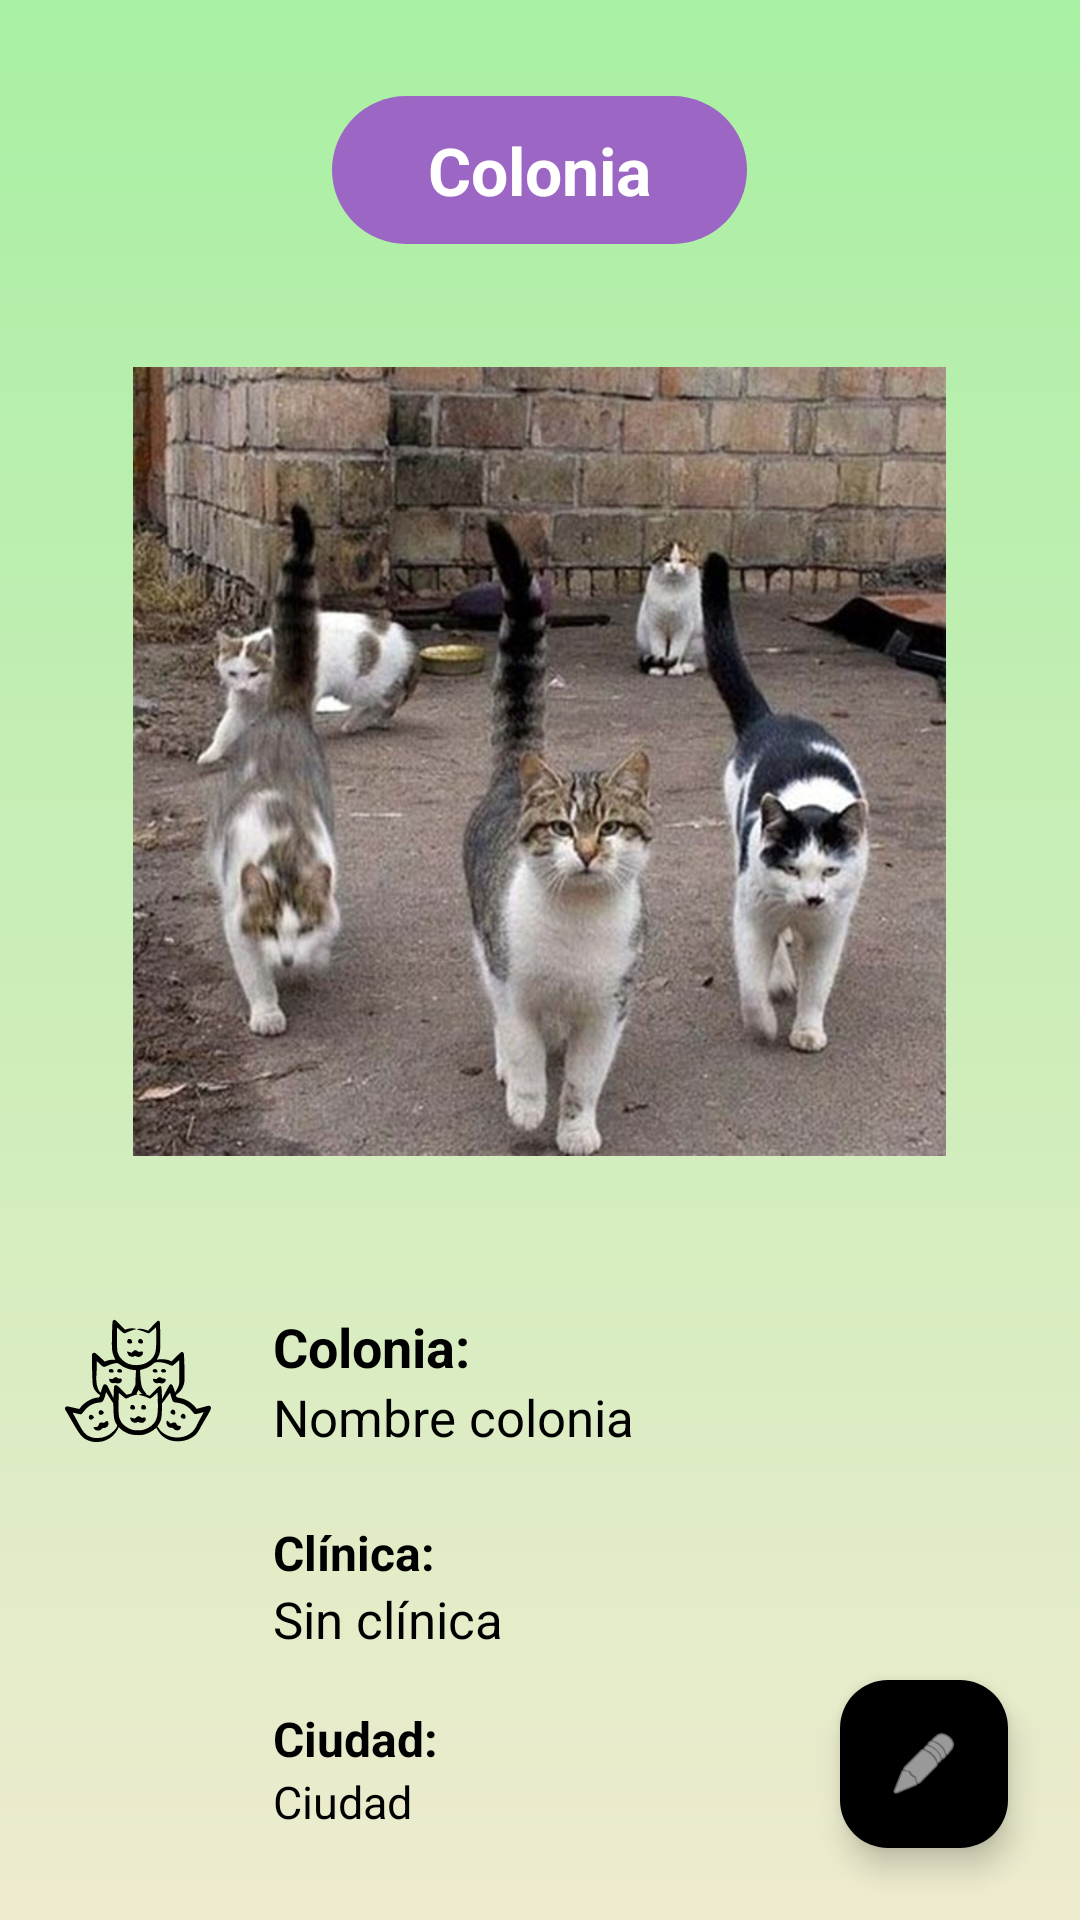

Icons on this 1080w x 1920h Android screen, each with the point to tap as point (x, y):
Editar colonia: point (924, 1764)
